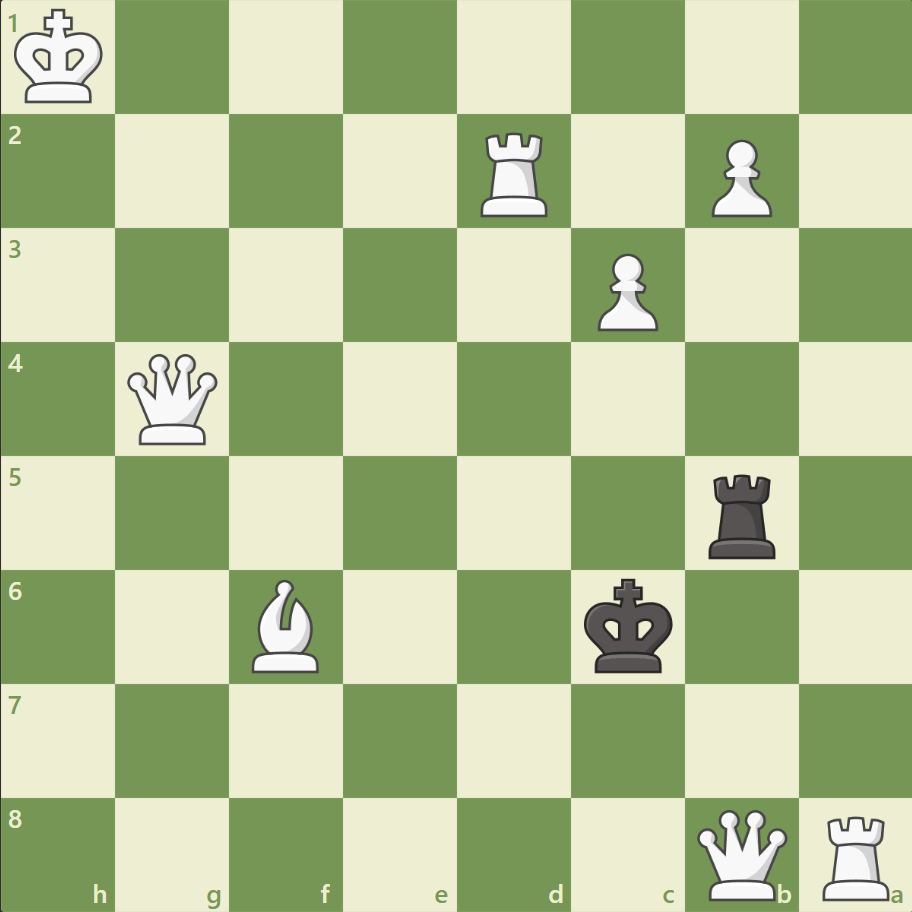B: (244, 574, 328, 676)
K: (11, 4, 111, 112)
P: (701, 132, 776, 223), (588, 246, 662, 337)
Q: (124, 349, 223, 449), (691, 804, 790, 903)
R: (814, 806, 897, 904), (473, 125, 556, 222)
k: (579, 571, 679, 679)
r: (700, 466, 783, 563)
